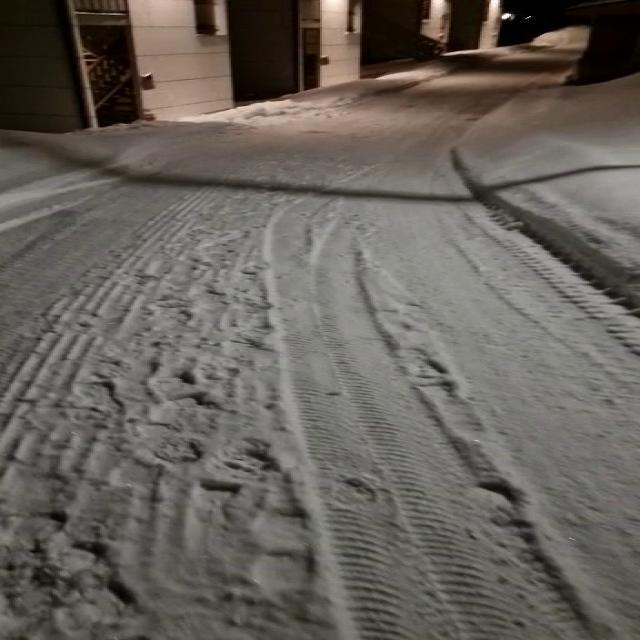path: (0, 46, 636, 640)
